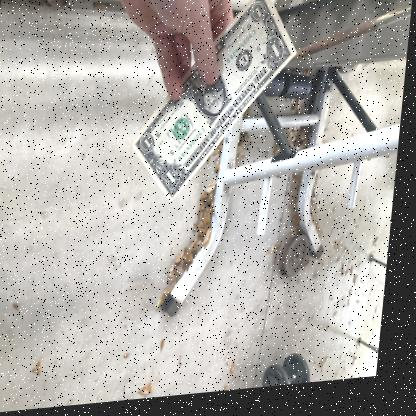one-front: (130, 0, 295, 197)
